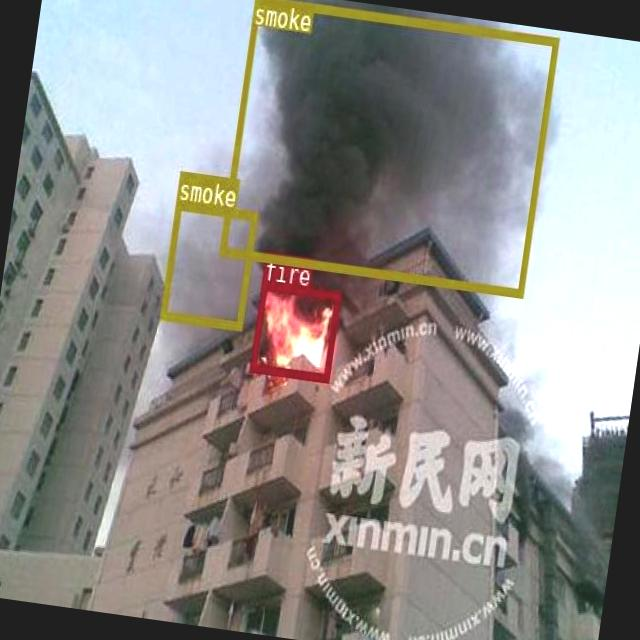fire: (249, 279, 340, 382)
smoke: (218, 0, 558, 297), (158, 199, 256, 330)
